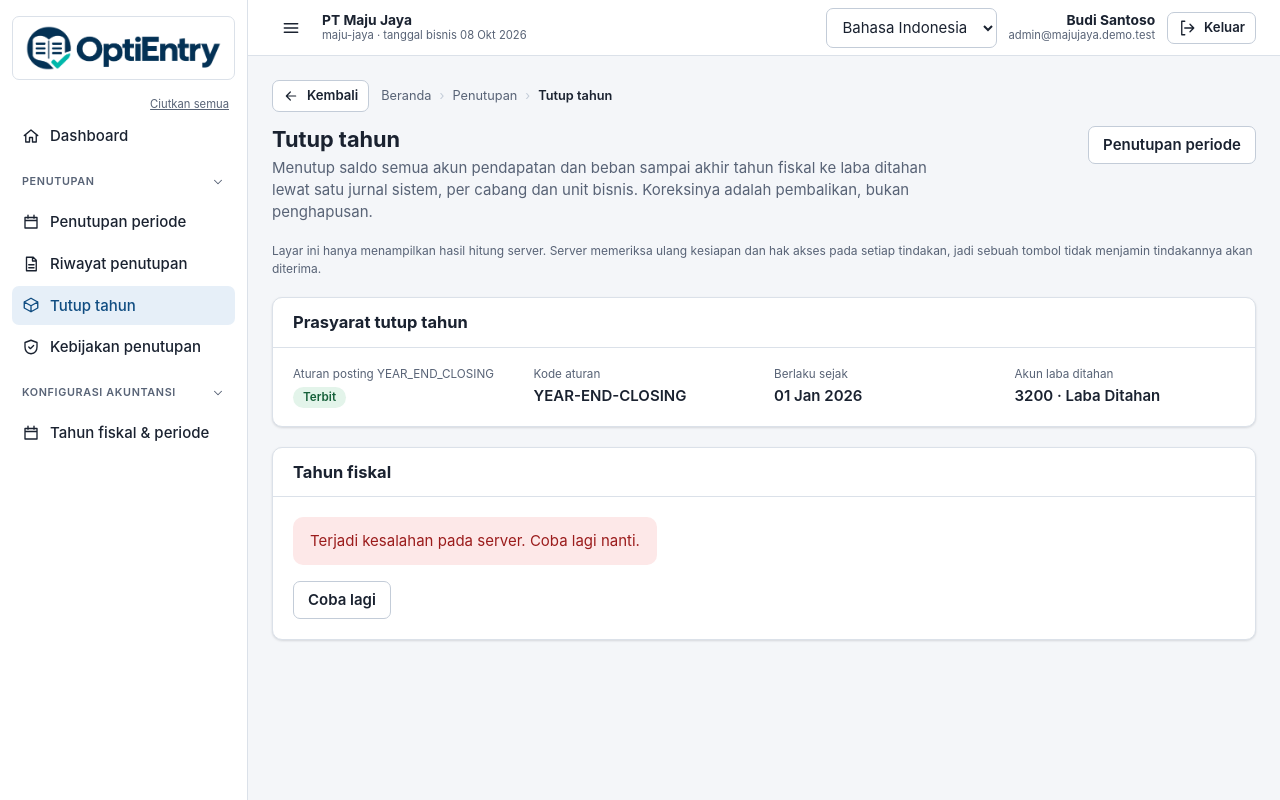
Scenario: year end list › shows errors with retry for the list and the rule status, and an empty state
Expected: the text "Terjadi kesalahan pada server. Coba lagi nanti." is shown, [310, 530, 640, 552]
Click the button "Coba lagi" at (342, 600), box [293, 581, 391, 619]
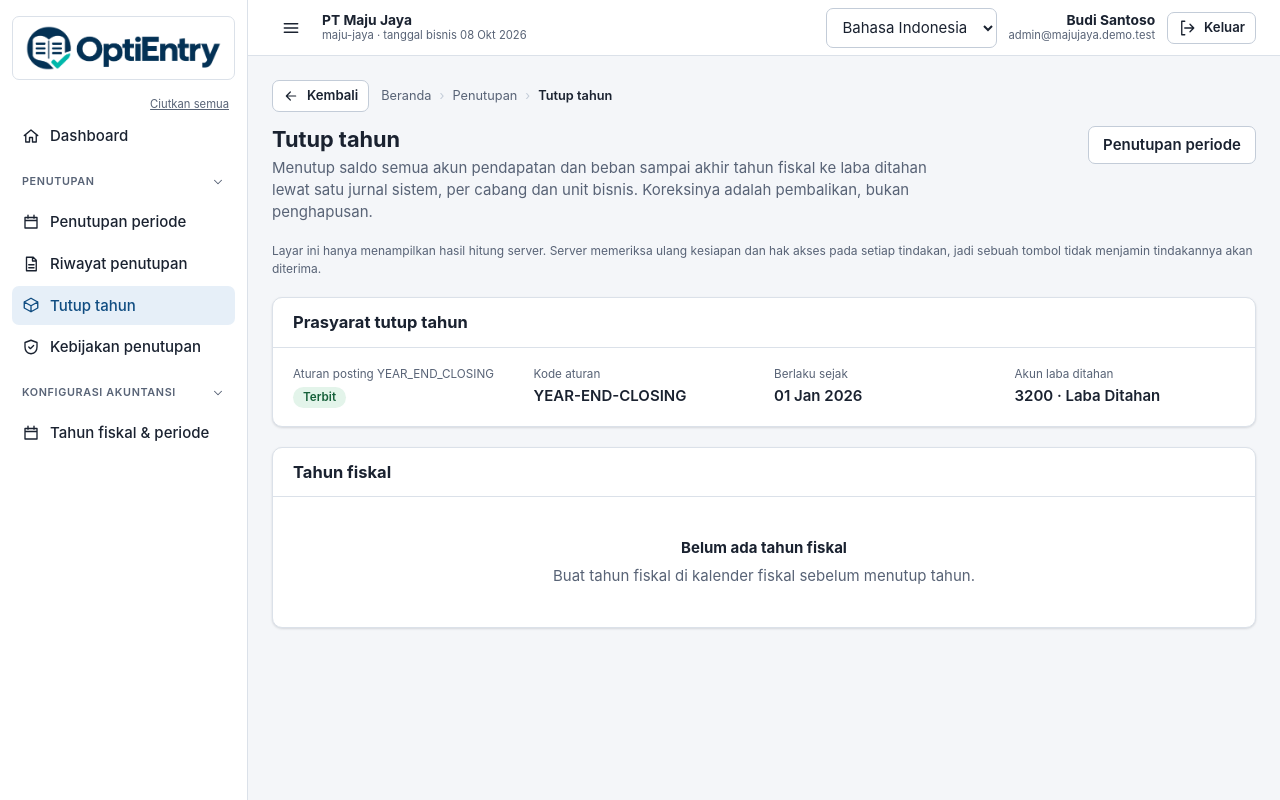
Result: the text "Belum ada tahun fiskal" is shown at [681, 537, 847, 559]
